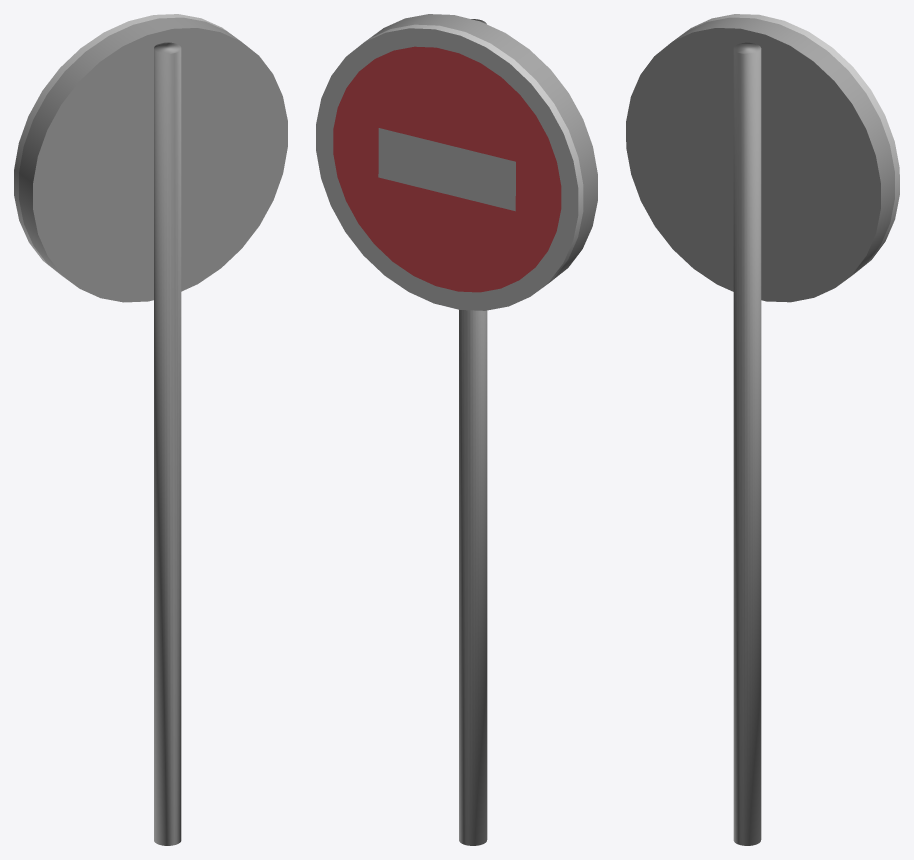
File: panneau_interdit.glb
3 views of the same model, side by side, from view 1: azimuth 30°, elevation 25°; view 2: azimuth 150°, elevation 25°; view 3: azimuth 330°, elevation 25° (orthographic). The views are drawn at different scales.
Parts seen in each view (by area): view 1: Cylinder.012; view 2: Cylinder.012; view 3: Cylinder.012.
Boxes of the visible parts, <box> form: Cylinder.012: <box>14,14,287,845</box>; Cylinder.012: <box>316,14,597,845</box>; Cylinder.012: <box>626,14,899,845</box>.
Bounding box in the file's own units: 3.88 × 11.69 × 0.8572.
3 materials, 1 textured.
